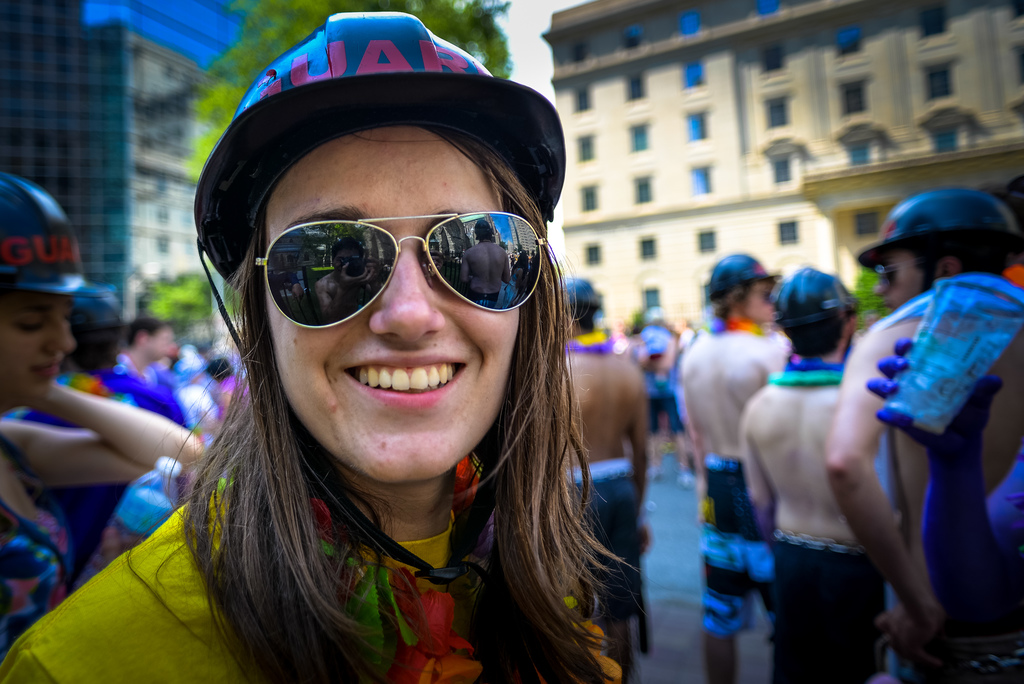Human-face: (269, 126, 522, 482), (0, 283, 76, 405), (868, 252, 931, 308), (744, 278, 775, 324), (148, 326, 178, 355)
